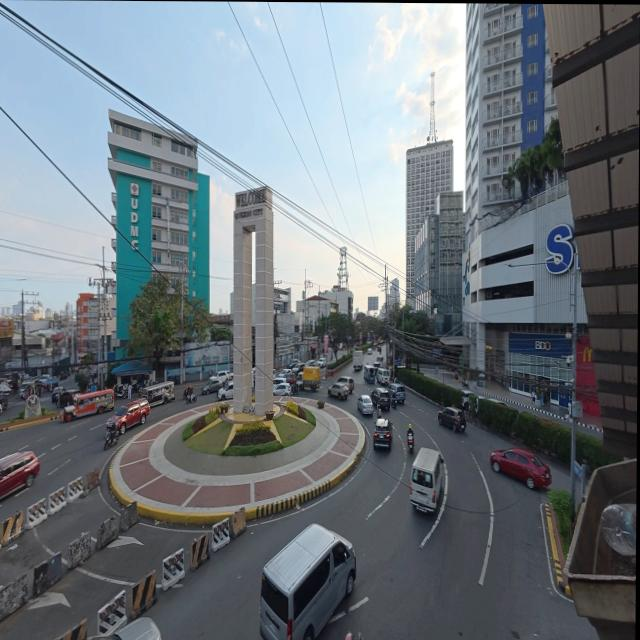Jeepneys: (60, 390, 114, 422), (142, 381, 175, 404), (363, 365, 375, 383)
car: (491, 448, 551, 489), (0, 451, 40, 499), (88, 617, 161, 639), (107, 399, 150, 434), (438, 407, 466, 431), (373, 419, 393, 450), (371, 387, 390, 410), (328, 383, 349, 400), (217, 381, 234, 401), (201, 379, 222, 395), (388, 384, 405, 403), (358, 395, 373, 415), (462, 390, 476, 410), (337, 377, 354, 393), (273, 382, 291, 396), (20, 381, 35, 397), (52, 387, 66, 403), (215, 372, 231, 385), (285, 373, 296, 385), (292, 363, 304, 373), (278, 368, 291, 377), (273, 377, 287, 385), (39, 374, 51, 383), (289, 359, 299, 368), (315, 358, 325, 367), (305, 360, 315, 366), (367, 348, 372, 355), (338, 344, 342, 350), (0, 404, 2, 414)
motorcycle: (104, 429, 119, 450), (406, 431, 414, 453), (345, 632, 363, 639), (186, 392, 197, 403), (0, 395, 8, 409), (291, 383, 299, 395), (391, 397, 398, 409), (462, 378, 469, 388)
trucks: (303, 366, 321, 390), (353, 351, 362, 371)
vans: (260, 524, 356, 639), (410, 448, 443, 511), (376, 368, 389, 385)
